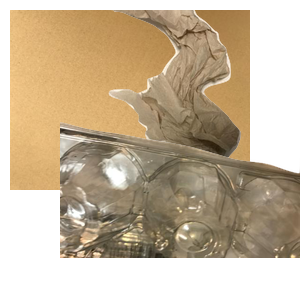cardboard: (10, 10, 250, 190)
glass: (74, 158, 223, 300)
plastic: (60, 120, 300, 300)
trash: (103, 10, 300, 173)
